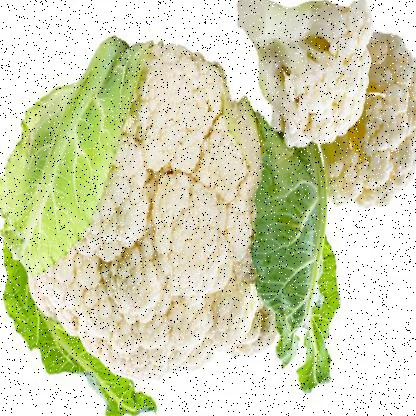cauliflower: (1, 74, 302, 362), (225, 0, 389, 146), (311, 40, 415, 228)
